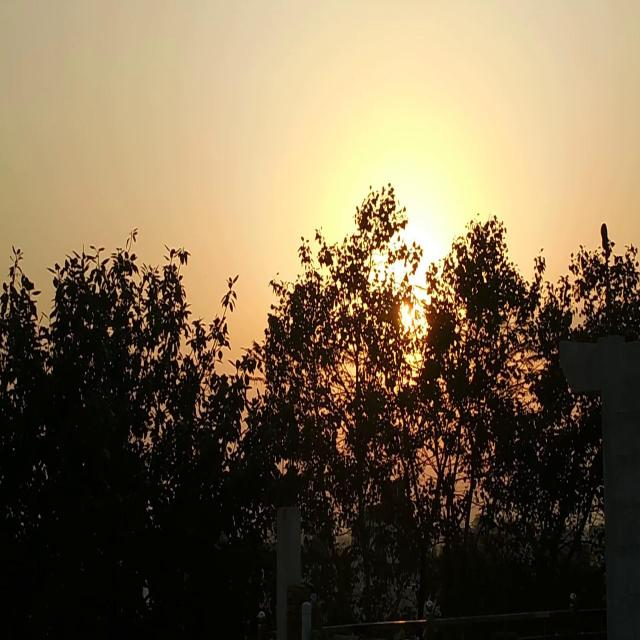other: (329, 121, 491, 388)
